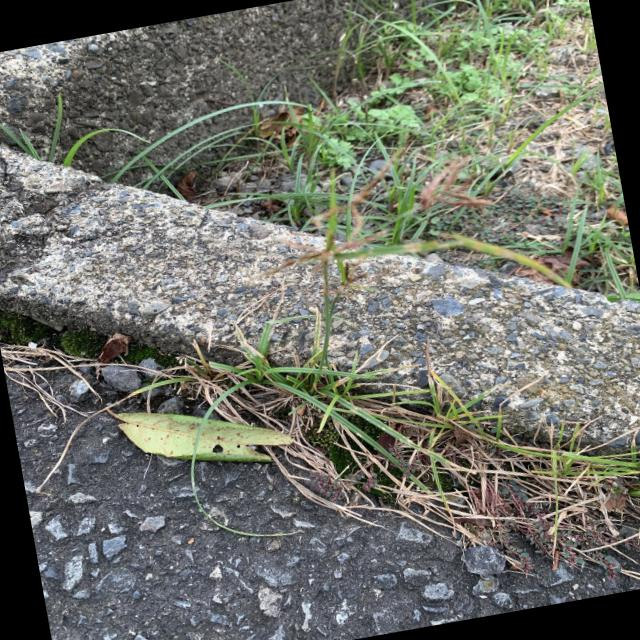cyperus: (236, 114, 516, 322)
